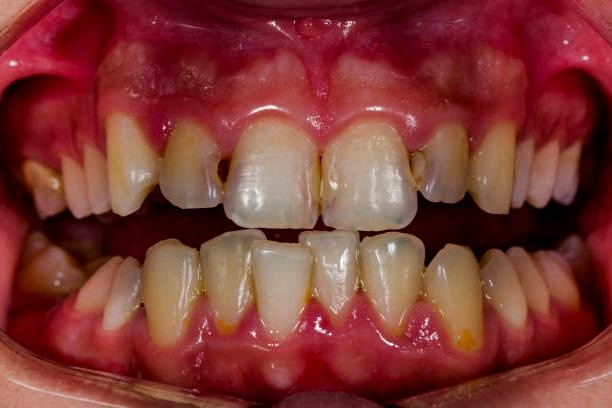Gingivitis: (351, 33, 500, 99), (127, 26, 239, 97), (292, 341, 353, 389), (212, 370, 277, 396)
